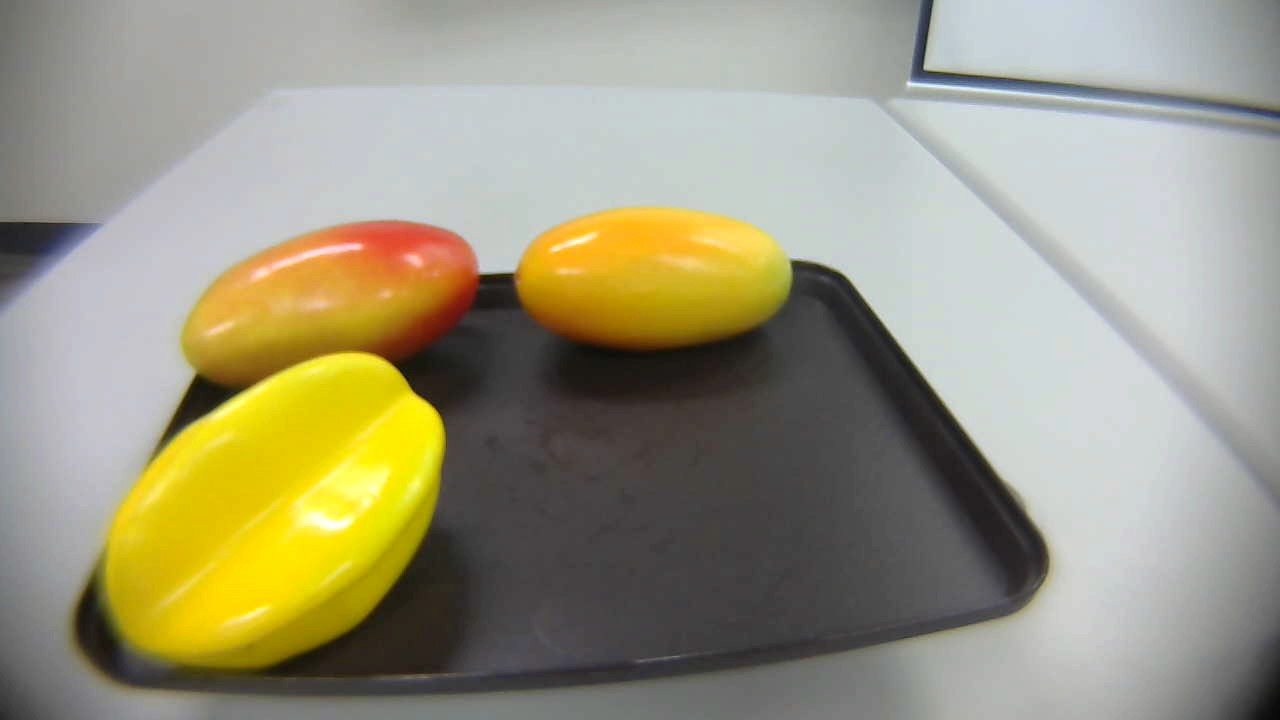red mango: (174, 207, 489, 393)
star fruit: (79, 340, 451, 661)
yellow mango: (513, 207, 799, 356)
